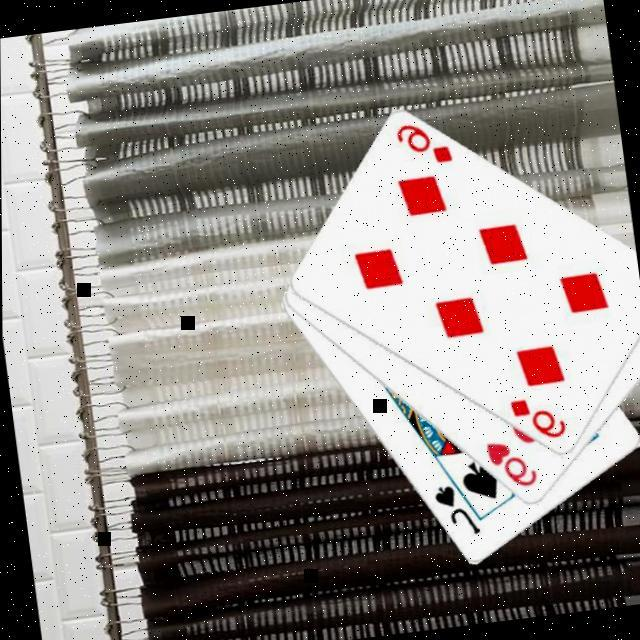6D: (389, 114, 455, 170), (504, 389, 568, 444)
6H: (480, 432, 539, 493)
JS: (427, 476, 482, 540)
